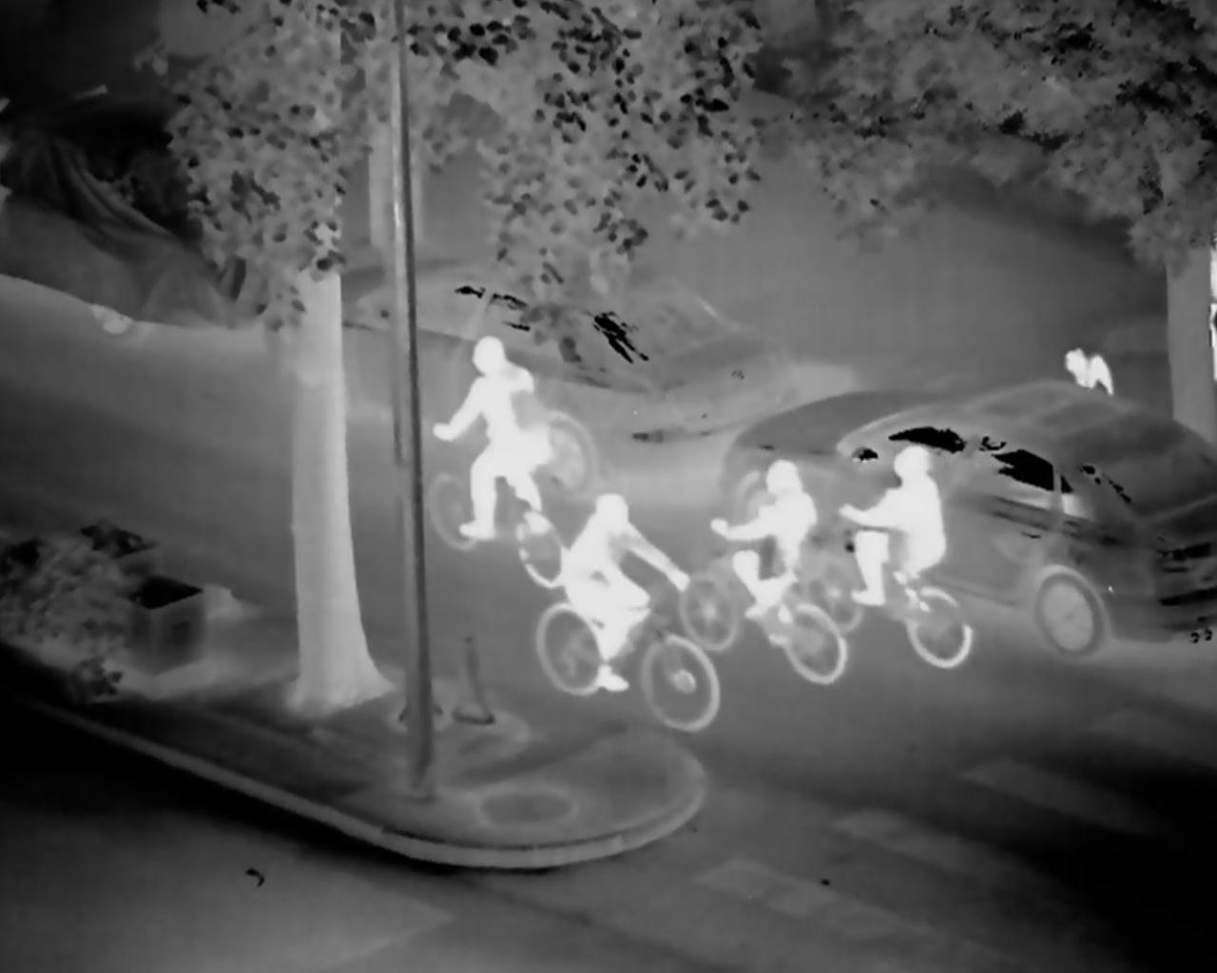person: (554, 495, 693, 704), (434, 334, 560, 558), (840, 445, 953, 629), (712, 457, 824, 642), (1063, 344, 1115, 389)
